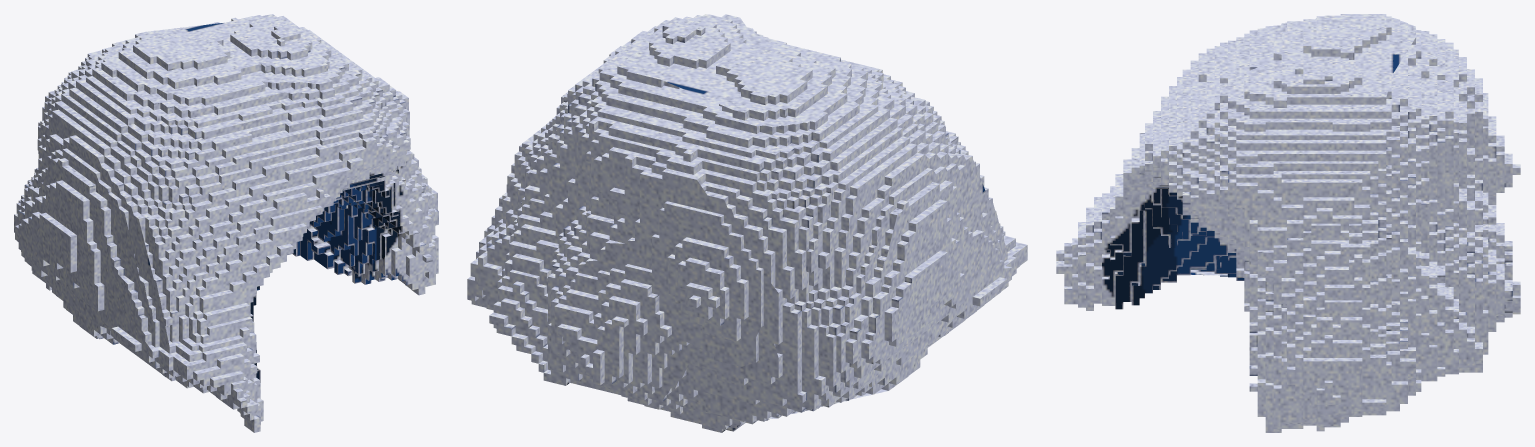
The model's file is Cave.fbx.
3 views of the same model, side by side, from view 1: azimuth 30°, elevation 25°; view 2: azimuth 150°, elevation 25°; view 3: azimuth 270°, elevation 25° (orthographic). The views are drawn at different scales.
Parts seen in each view (by area): view 1: Suzanne; view 2: Suzanne; view 3: Suzanne.
Boxes of the visible parts, bbox=[...] form: Suzanne: bbox=[14, 14, 438, 432]; Suzanne: bbox=[467, 14, 1027, 432]; Suzanne: bbox=[1056, 14, 1520, 432].
Bounding box in the file's own units: 801 × 572 × 792.
